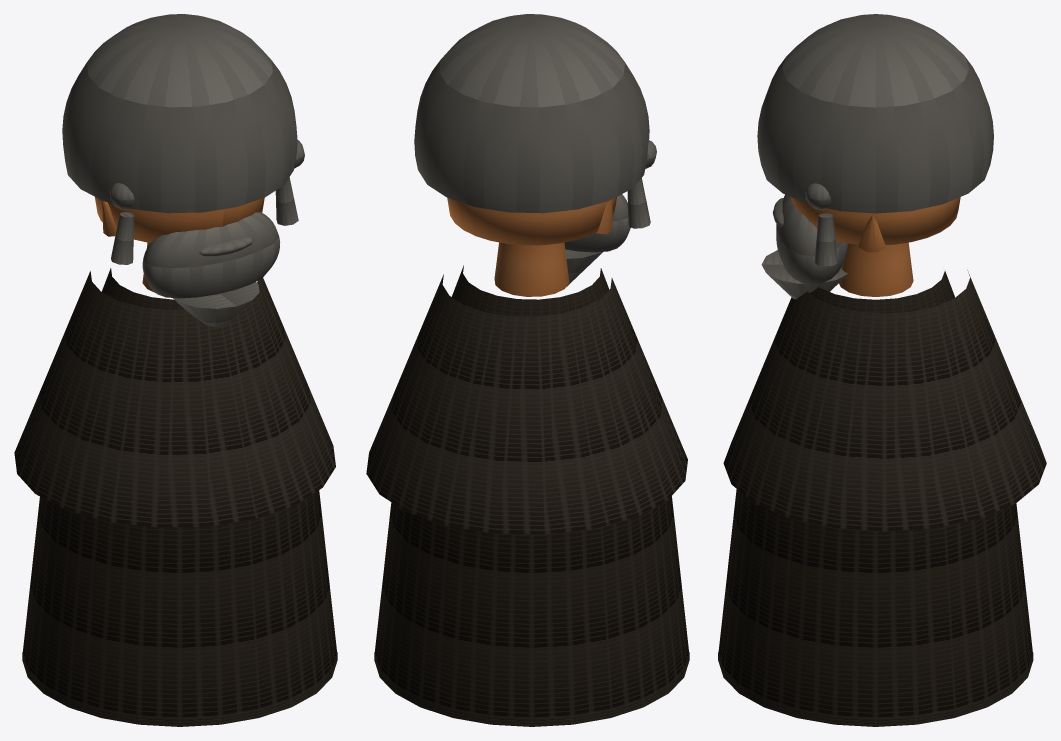
The model's file is peter.glb.
3 renders of one model, left to right at view 1: azimuth 30°, elevation 25°; view 2: azimuth 150°, elevation 25°; view 3: azimuth 270°, elevation 25°, orthographic.
Visible parts, largest first — view 1: Character_simon_peter, head; view 2: Character_simon_peter, head; view 3: Character_simon_peter, head.
Part boxes in pixels (x1,y1,x2,y2): Character_simon_peter: (14,14,337,726); head: (95,197,264,242); Character_simon_peter: (366,14,689,726); head: (447,197,616,245); Character_simon_peter: (718,14,1046,726); head: (791,197,960,244).
Bounding box in the file's own units: 0.8297 × 1.8 × 0.8434.
8 materials, 4 textured.
